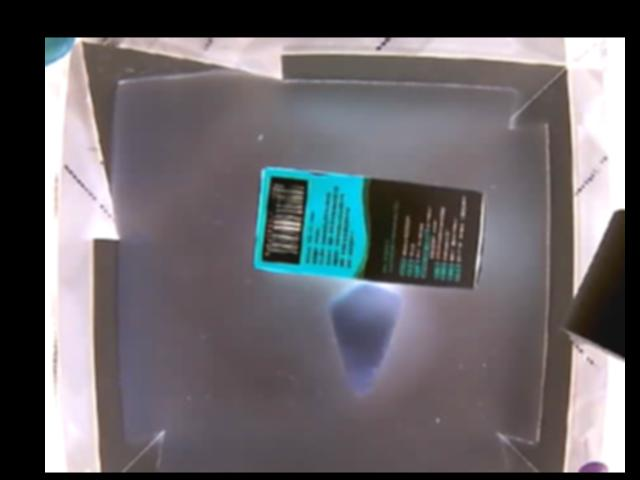Medicine: (251, 167, 483, 292)
Mooli: (325, 284, 400, 400)
